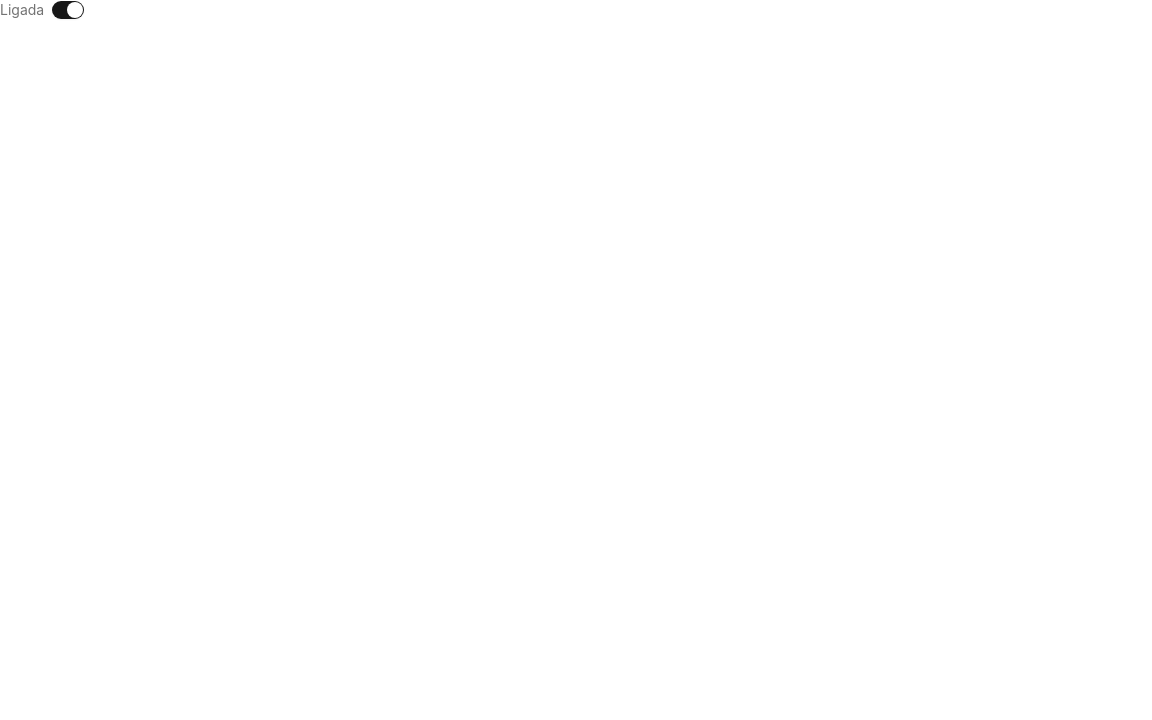
Test: ExtensionToggle › cancelar mantém a extensão ligada
Click the switch named "Ligar ou desligar a extensão" at point(68, 10), box [52,1,84,19]
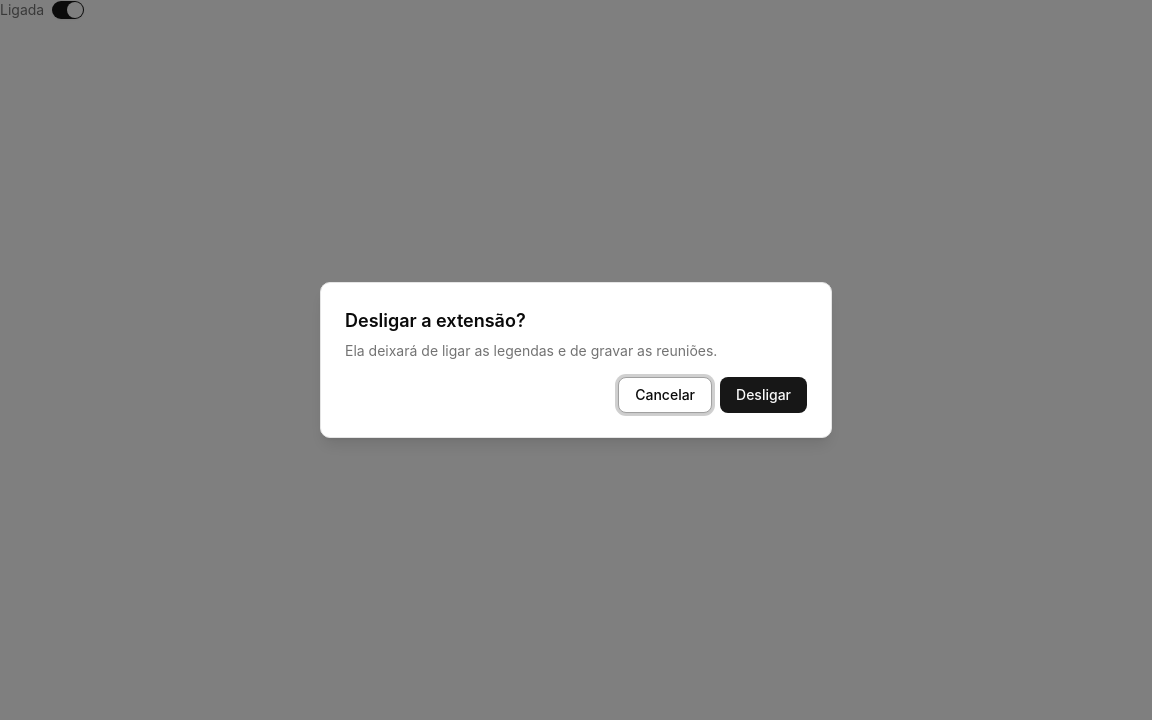
Click the button "Cancelar" at point(665, 395), box [618,377,712,413]
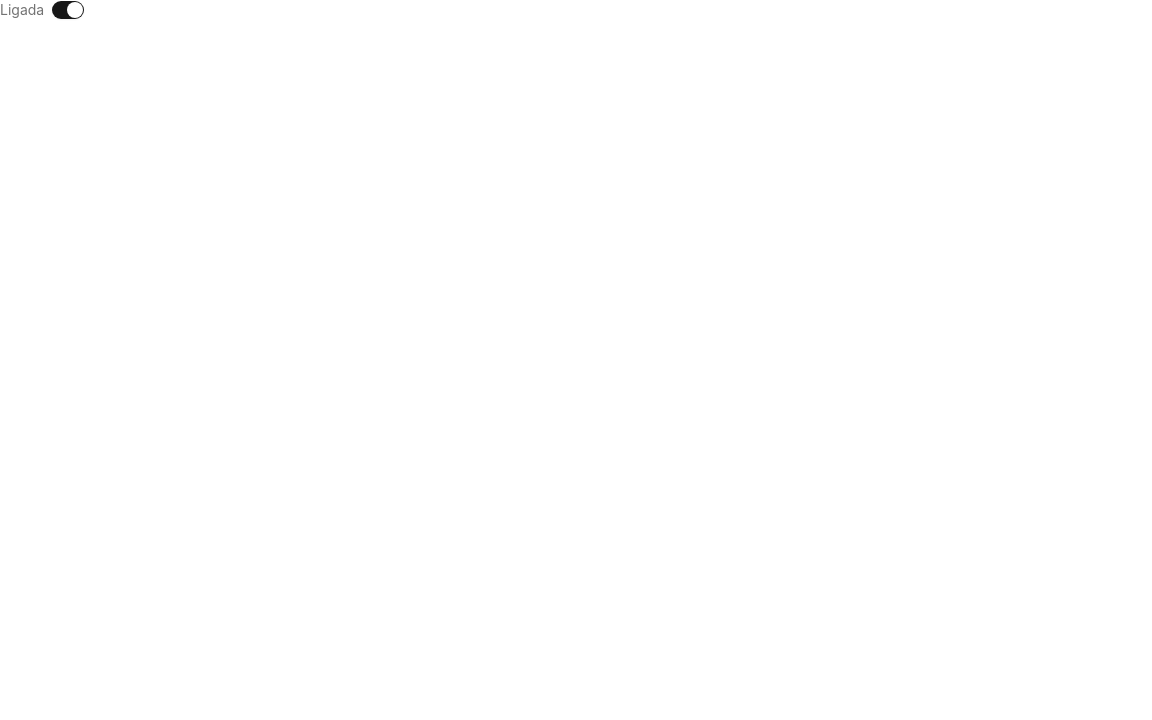
Expected: the dialog is gone
